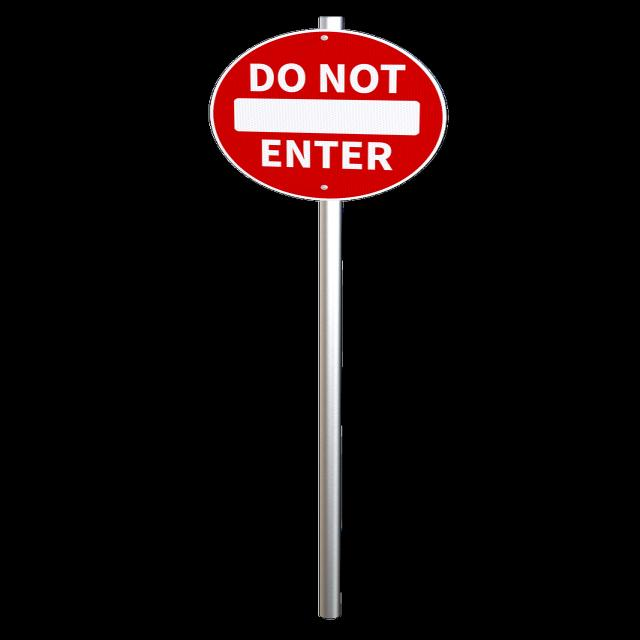no entry: (200, 17, 450, 206)
